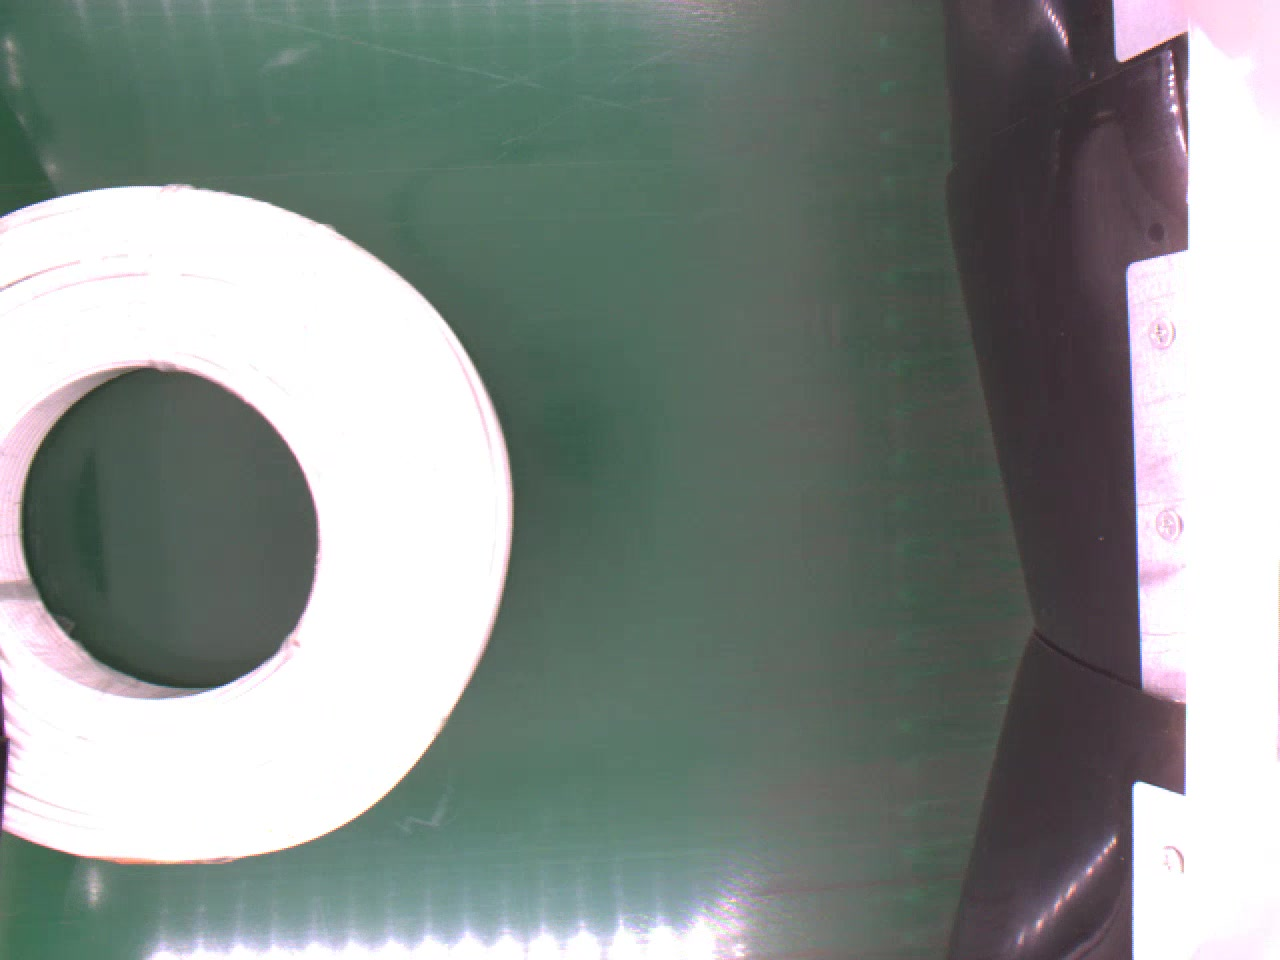white: (0, 181, 517, 869)
